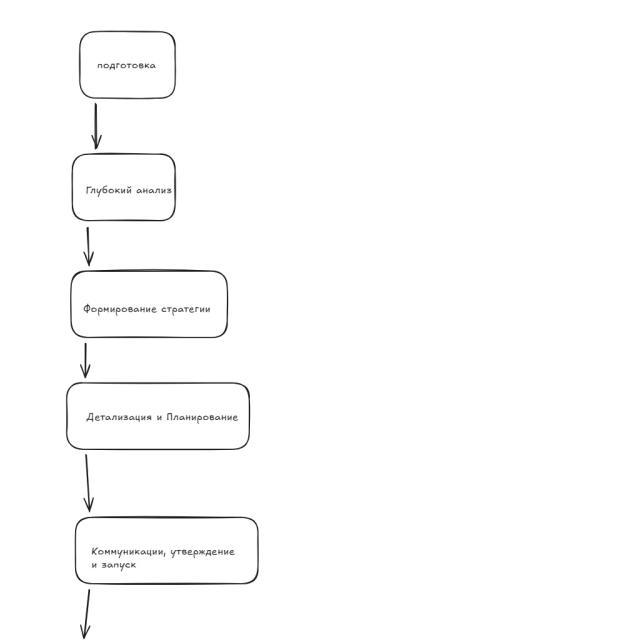arrow: (84, 455, 93, 511), (81, 590, 90, 638), (92, 104, 101, 149), (84, 227, 93, 266), (81, 344, 90, 378)
rectangle: (75, 517, 258, 584), (67, 382, 249, 449), (70, 270, 227, 338), (72, 153, 175, 221), (79, 31, 176, 99)
